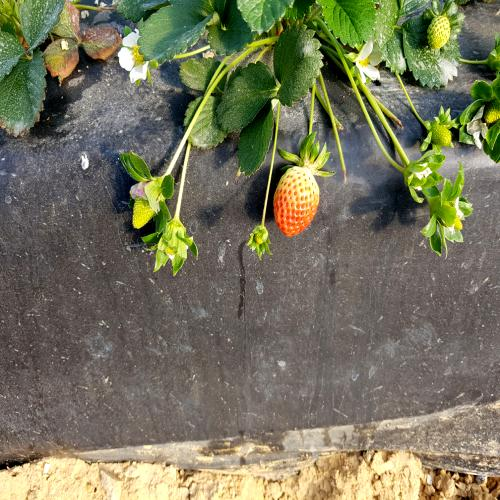partially-ripe: (270, 152, 317, 253)
